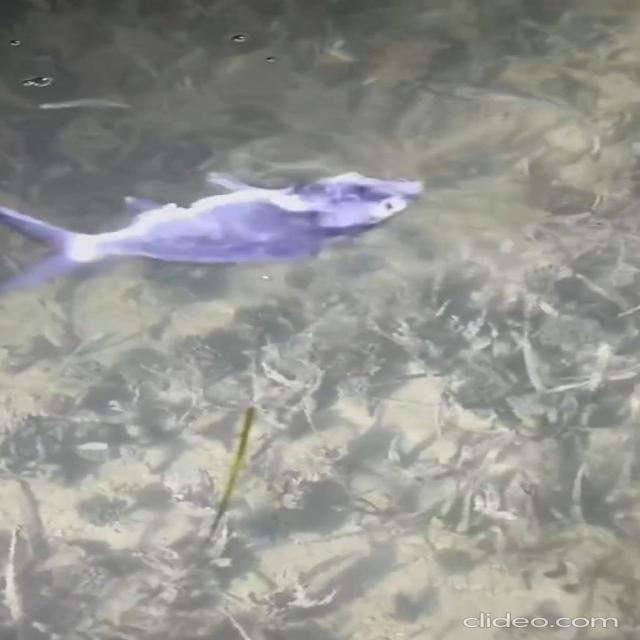fish: (3, 175, 457, 298)
